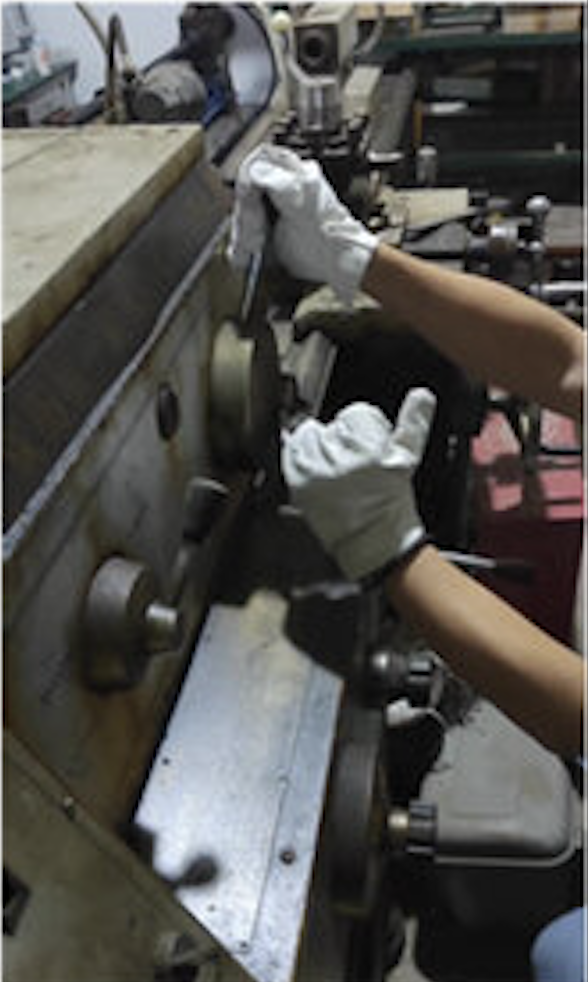gloves: (225, 403, 500, 605), (192, 135, 393, 302)
